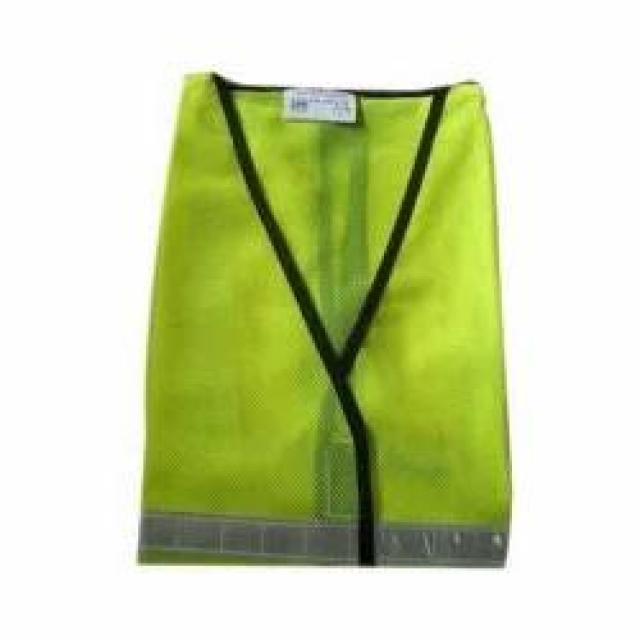Reflective-Jacket: (48, 41, 614, 607)
